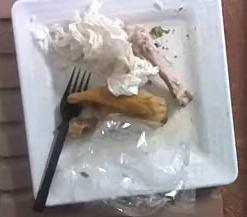pizza_crust: (68, 87, 167, 123)
